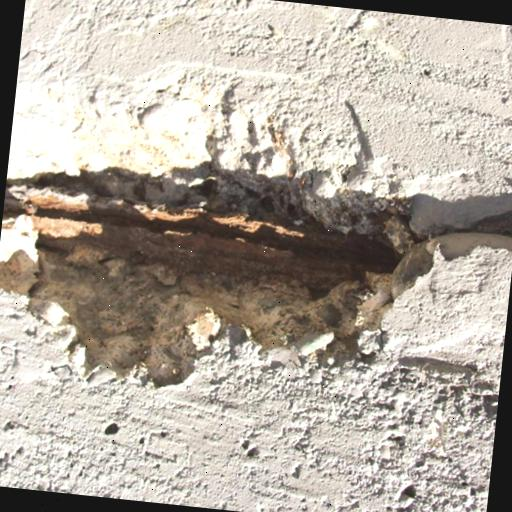spalling: (0, 110, 512, 393)
